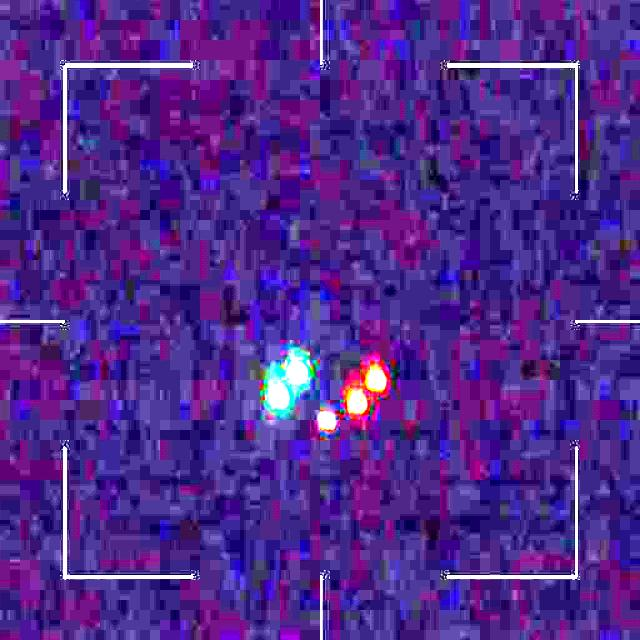bird: (269, 354, 389, 432)
